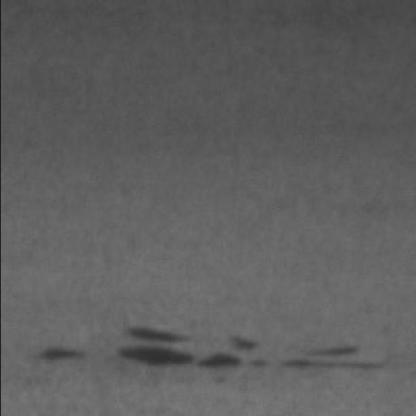inclusion: (191, 330, 385, 380), (108, 324, 196, 378), (31, 344, 90, 373)
